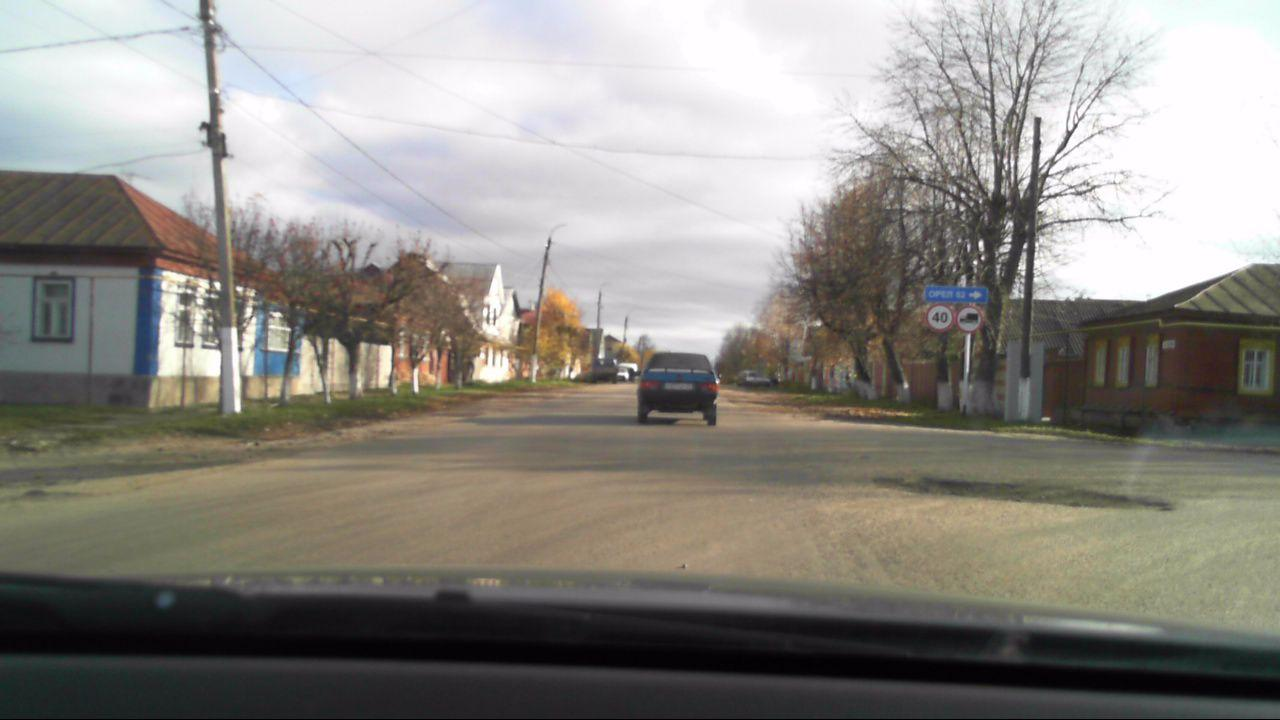3_24: (924, 304, 955, 333)
3_4: (957, 305, 983, 330)
